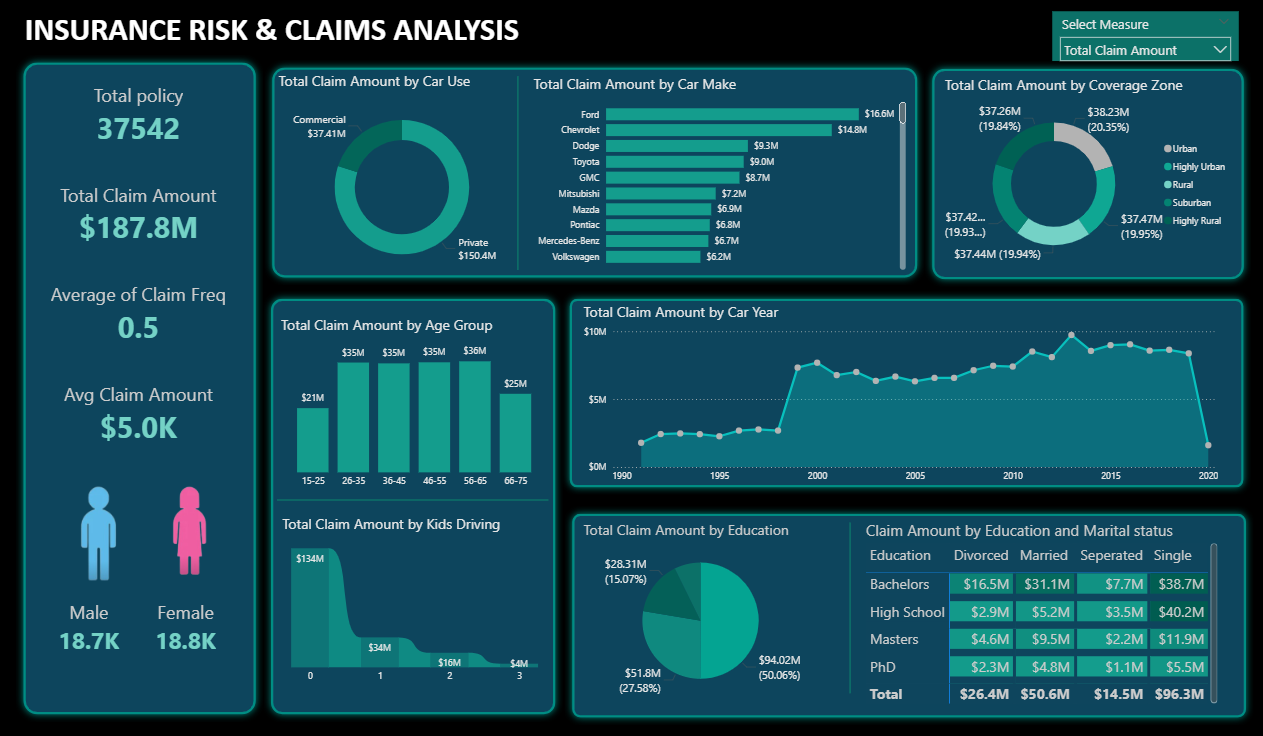

Layout of this report page (visuals, bound fields, positions):
{"tool":"powerbi","page":{"name":"Page 1","canvas":[1700,995],"ordinal":0},"visuals":[{"type":"textbox","box":[40,8.3,683.6,71.7],"z":0},{"type":"shape","box":[32.8,72.9,329.9,889.4],"z":1000},{"type":"cardVisual","fields":{"Data":["insurance_data_car.Total policy","insurance_data_car.Total Claim Amount","Avg(insurance_data_car.Claim Freq)","insurance_data_car.Avg Claim Amount"]},"box":[61.7,85,270.1,535.2],"z":2000},{"type":"cardVisual","fields":{"Data":["insurance_data_car.Male Count","insurance_data_car.Female Count"]},"box":[65,781.9,261.8,110],"z":3000},{"type":"image","box":[76.7,638.6,133.4,145],"z":4000},{"type":"image","box":[198.4,636.9,133.4,145],"z":5000},{"type":"slicer","fields":{"Values":["Select Measure.Select Measure"]},"box":[1415.5,15,248.4,66.7],"z":6000},{"type":"shape","box":[365.1,80,880.3,300.1],"z":7000},{"type":"donutChart","fields":{"Y":["insurance_data_car.Total Claim Amount"],"Category":["insurance_data_car.Car Use"]},"box":[379.1,94.3,339.6,284.7],"z":8000},{"type":"barChart","fields":{"Y":["insurance_data_car.Total Claim Amount"],"Category":["insurance_data_car.Car Make"]},"box":[718.6,98.4,506.8,266.8],"z":9000},{"type":"shape","box":[1244.8,82,435.6,300.7],"z":10000},{"type":"donutChart","fields":{"Y":["insurance_data_car.Total Claim Amount"],"Category":["insurance_data_car.Coverage Zone"]},"box":[1266.6,100.2,393.7,266.1],"z":11000},{"type":"shape","box":[362.7,388.2,399.1,574.1],"z":12000},{"type":"clusteredColumnChart","fields":{"Y":["insurance_data_car.Total Claim Amount"],"Category":["insurance_data_car.Age Group"]},"box":[381.8,420.1,366.8,240.1],"z":13000},{"type":"ribbonChart","fields":{"Y":["insurance_data_car.Total Claim Amount"],"Category":["insurance_data_car.Kids Driving"]},"box":[383.5,685.2,363.5,235.1],"z":14000},{"type":"shape","box":[761.8,388.2,918.5,271.5],"z":15000},{"type":"areaChart","fields":{"Y":["insurance_data_car.Total Claim Amount"],"Category":["insurance_data_car.Car Year"]},"box":[785.5,402.8,856.6,249.7],"z":16000},{"type":"shape","box":[765.3,675.2,918.6,291.8],"z":17000},{"type":"pieChart","fields":{"Y":["insurance_data_car.Total Claim Amount"],"Category":["insurance_data_car.Education"]},"box":[785.5,694.4,322.6,244.2],"z":18000},{"type":"pivotTable","title":"Claim Amount by Education and Marital status","fields":{"Rows":["insurance_data_car.Education"],"Columns":["insurance_data_car.Marital Status"],"Values":["insurance_data_car.Total Claim Amount"]},"box":[1162.1,693.6,478.5,250.1],"z":19000},{"type":"shape","box":[686.9,101.7,31.7,258.4],"z":20000},{"type":"shape","box":[1129.9,696.2,31,227.8],"z":21000},{"type":"shape","box":[381.8,643.6,361.8,46.7],"z":22000}]}

Visuals, with their boxes in screenshot pixels (x1, y1, x2, y2), scaled from the page's 1700x995 canvas onto the 1263x736 screenshot:
textbox: {"left": 30, "top": 6, "right": 538, "bottom": 59}
shape: {"left": 24, "top": 54, "right": 269, "bottom": 712}
cardVisual - insurance_data_car.Total policy x insurance_data_car.Total Claim Amount: {"left": 46, "top": 63, "right": 247, "bottom": 459}
cardVisual - insurance_data_car.Male Count x insurance_data_car.Female Count: {"left": 48, "top": 578, "right": 243, "bottom": 660}
image: {"left": 57, "top": 472, "right": 156, "bottom": 580}
image: {"left": 147, "top": 471, "right": 247, "bottom": 578}
slicer - Select Measure.Select Measure: {"left": 1052, "top": 11, "right": 1236, "bottom": 60}
shape: {"left": 271, "top": 59, "right": 925, "bottom": 281}
donutChart - insurance_data_car.Total Claim Amount x insurance_data_car.Car Use: {"left": 282, "top": 70, "right": 534, "bottom": 280}
barChart - insurance_data_car.Total Claim Amount x insurance_data_car.Car Make: {"left": 534, "top": 73, "right": 910, "bottom": 270}
shape: {"left": 925, "top": 61, "right": 1248, "bottom": 283}
donutChart - insurance_data_car.Total Claim Amount x insurance_data_car.Coverage Zone: {"left": 941, "top": 74, "right": 1234, "bottom": 271}
shape: {"left": 269, "top": 287, "right": 566, "bottom": 712}
clusteredColumnChart - insurance_data_car.Total Claim Amount x insurance_data_car.Age Group: {"left": 284, "top": 311, "right": 556, "bottom": 488}
ribbonChart - insurance_data_car.Total Claim Amount x insurance_data_car.Kids Driving: {"left": 285, "top": 507, "right": 555, "bottom": 681}
shape: {"left": 566, "top": 287, "right": 1248, "bottom": 488}
areaChart - insurance_data_car.Total Claim Amount x insurance_data_car.Car Year: {"left": 584, "top": 298, "right": 1220, "bottom": 483}
shape: {"left": 569, "top": 499, "right": 1251, "bottom": 715}
pieChart - insurance_data_car.Total Claim Amount x insurance_data_car.Education: {"left": 584, "top": 514, "right": 823, "bottom": 694}
"Claim Amount by Education and Marital status" pivotTable: {"left": 863, "top": 513, "right": 1219, "bottom": 698}
shape: {"left": 510, "top": 75, "right": 534, "bottom": 266}
shape: {"left": 839, "top": 515, "right": 862, "bottom": 683}
shape: {"left": 284, "top": 476, "right": 552, "bottom": 511}
